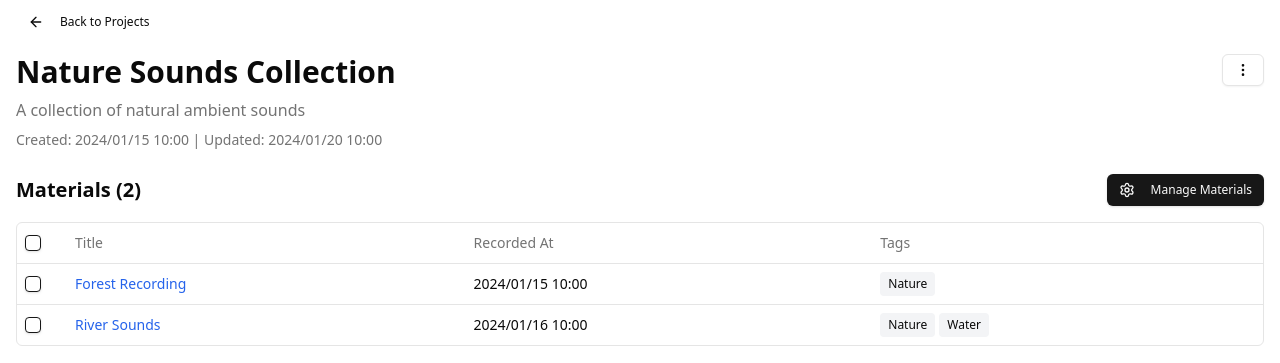
Test case: ProjectDetailPage - Comprehensive Tests › Material Selection and Removal › should select individual materials
expect the link "Forest Recording" is shown: met, box [75,274,186,292]
Click the checkbox next to "Forest Recording" at point(33, 284), box [25,276,41,292]
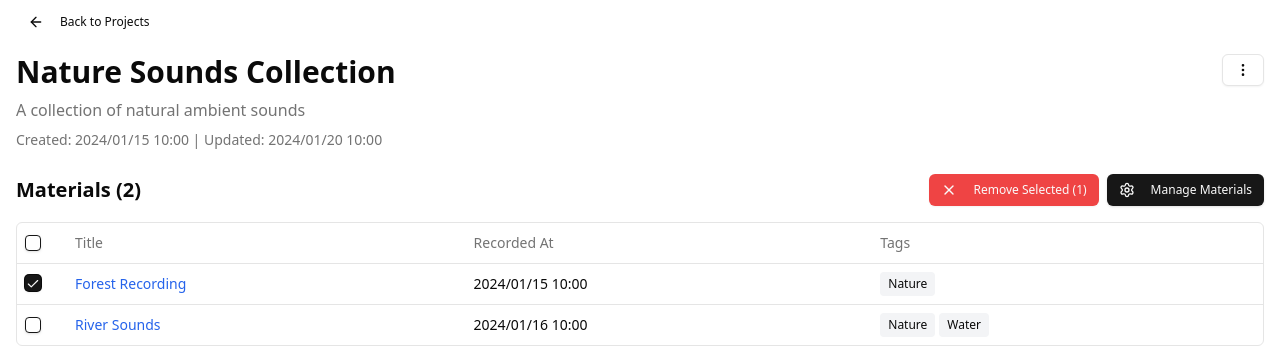
expect the button "Remove Selected (1)" is shown: met, box [930,174,1099,206]
